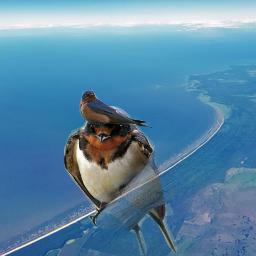Swallow: (64, 106, 177, 255), (79, 90, 154, 128)
